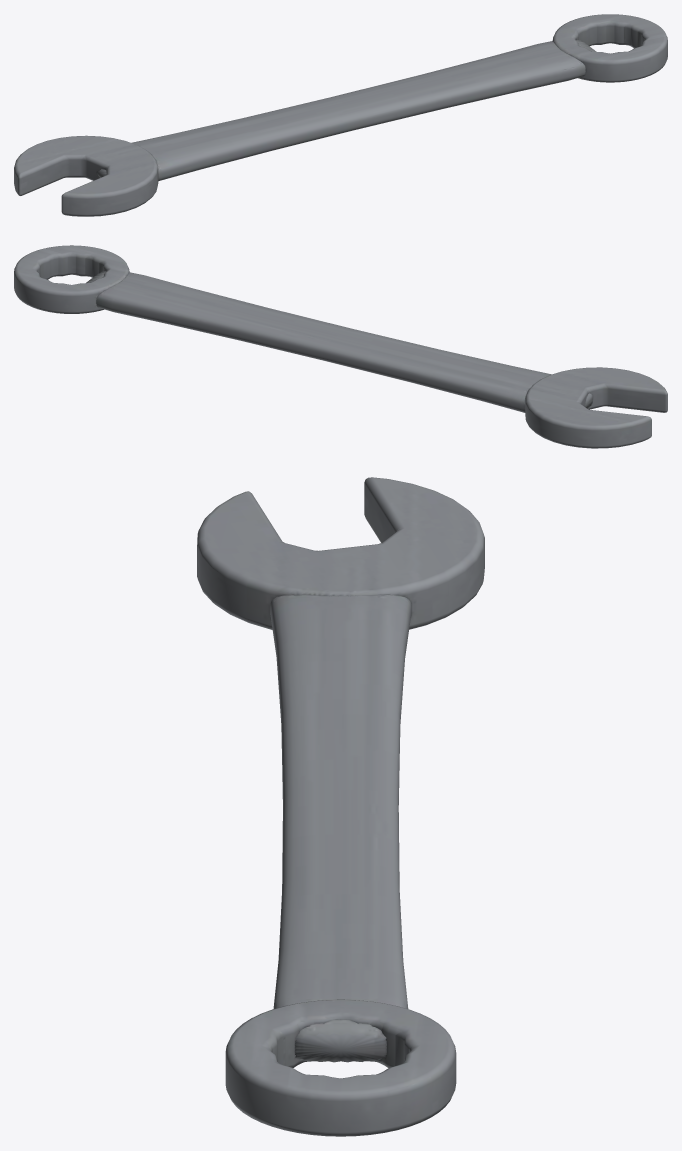
File: combination.glb
The picture shows the model from 3 angles, top to bottom: view 1: azimuth 30°, elevation 25°; view 2: azimuth 150°, elevation 25°; view 3: azimuth 270°, elevation 25°; orthographic projection. The views are drawn at different scales.
Parts seen in each view (by area): view 1: steel_satin; view 2: steel_satin; view 3: steel_satin.
Boxes of the visible parts, <box> form: steel_satin: <box>14,14,667,216</box>; steel_satin: <box>14,245,667,448</box>; steel_satin: <box>197,477,484,1136</box>.
Size of the model in its own units: 0.2187 by 0.0075 by 0.0429.
Materials: 1 (1 with a texture image).
